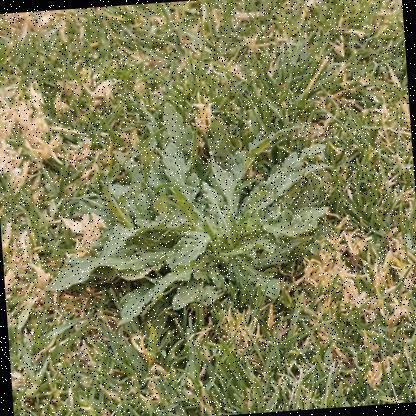Weeds: (35, 92, 350, 332)
